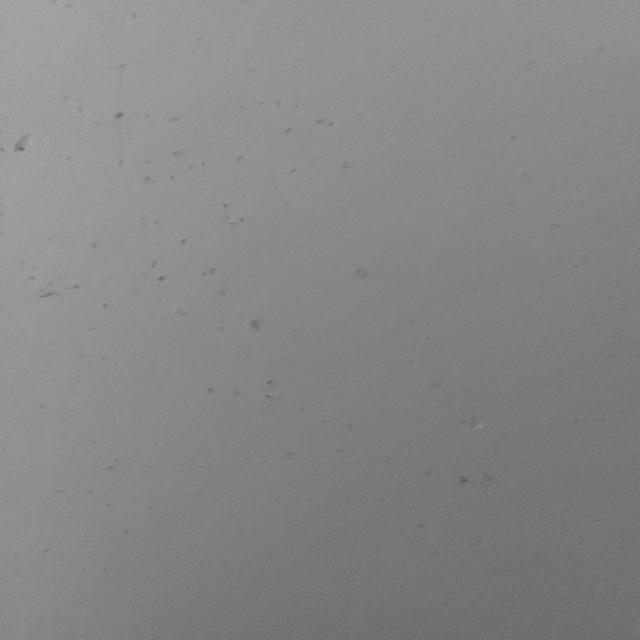rough and patchy surface: (9, 102, 418, 361)
